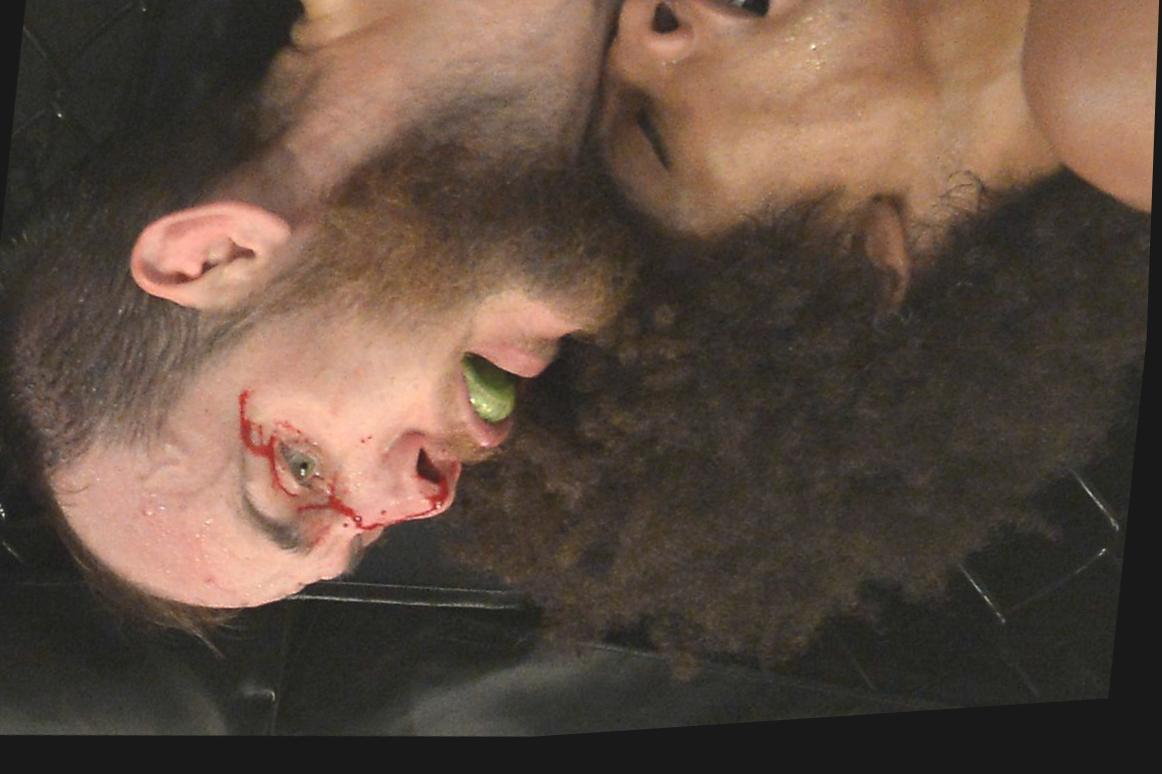Fire: (239, 394, 484, 543)
